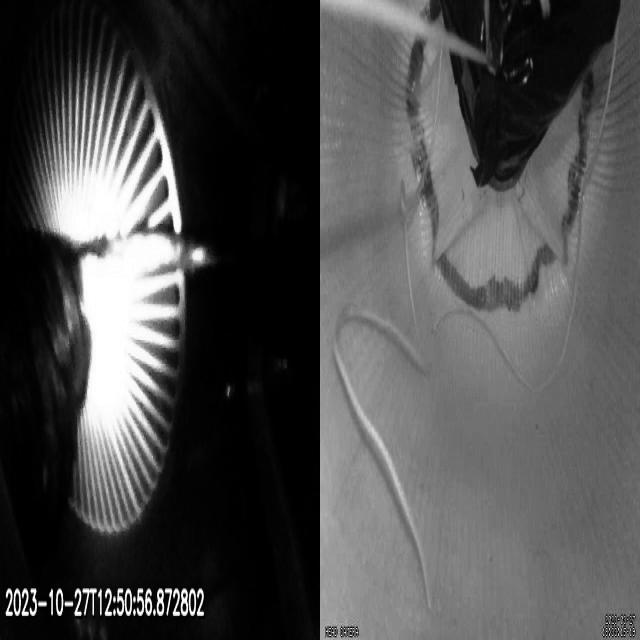red-circle: (405, 34, 595, 314)
